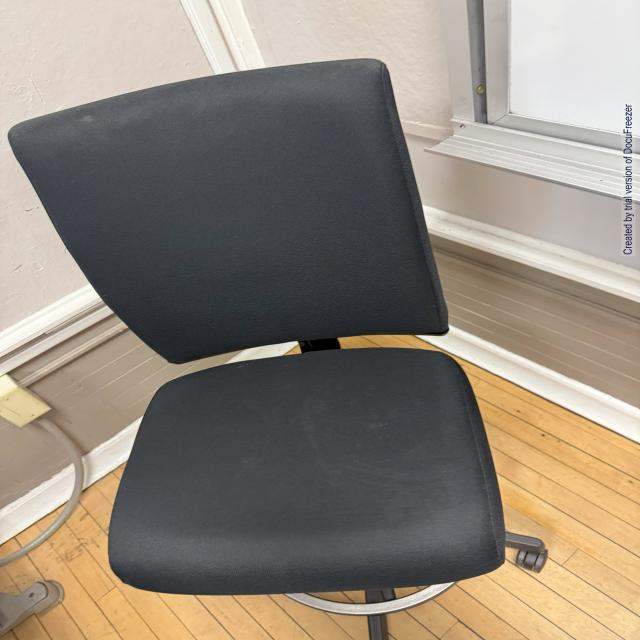chair: (8, 55, 640, 640)
